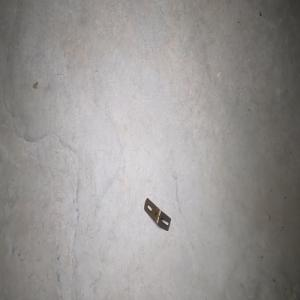MetalPart: (143, 197, 171, 231)
